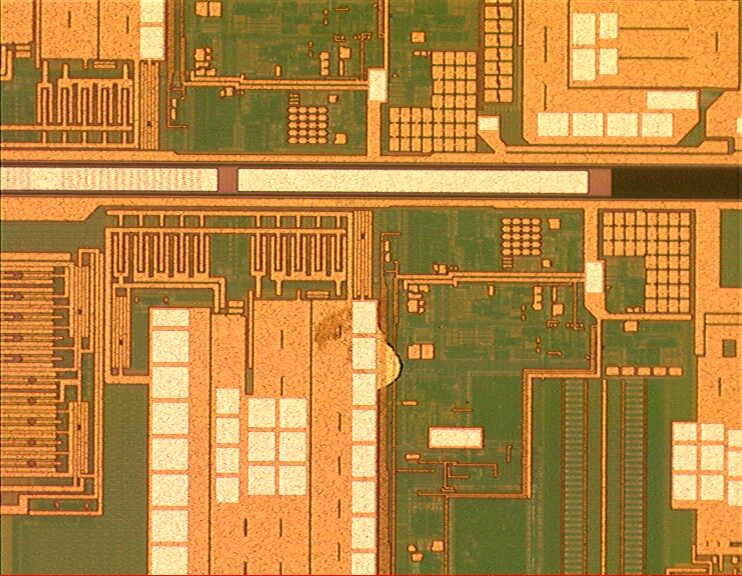BLOCK ETCH: (308, 296, 412, 401)
